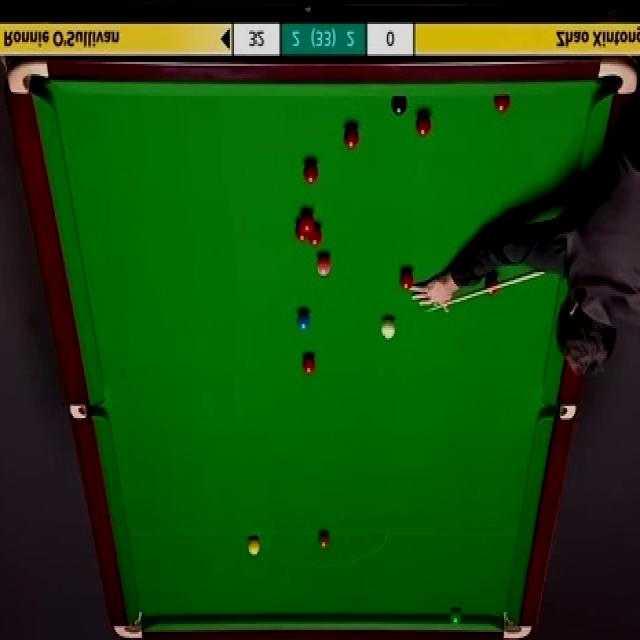black-ball: (389, 94, 407, 116)
blue-ball: (295, 307, 311, 332)
brown-ball: (316, 529, 330, 552)
green-ball: (449, 608, 464, 626)
pink-ball: (316, 252, 332, 278)
red-ball: (398, 265, 416, 293), (341, 123, 359, 150), (302, 157, 319, 185), (414, 111, 431, 137), (302, 350, 318, 374), (484, 272, 499, 297), (308, 222, 322, 246), (494, 94, 510, 114), (301, 210, 314, 230), (295, 222, 308, 242)
white-ball: (380, 314, 398, 342)
yellow-ball: (246, 537, 260, 557)
